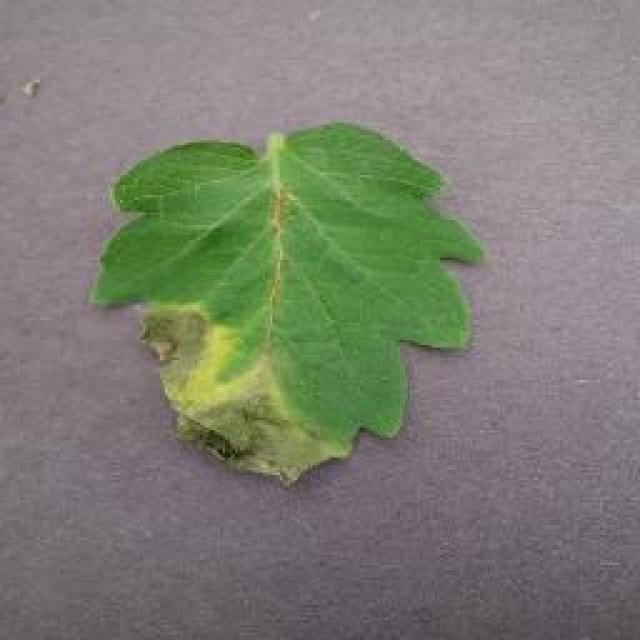Tomato Late Blight: (119, 270, 388, 515)
